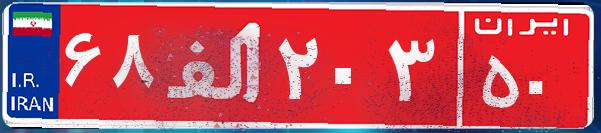0: (330, 28, 385, 110), (525, 38, 570, 115)
2: (273, 28, 330, 110)
3: (385, 28, 445, 110)
5: (475, 38, 525, 113)
6: (57, 26, 110, 107)
8: (110, 28, 158, 105)
الف: (158, 15, 273, 115)
